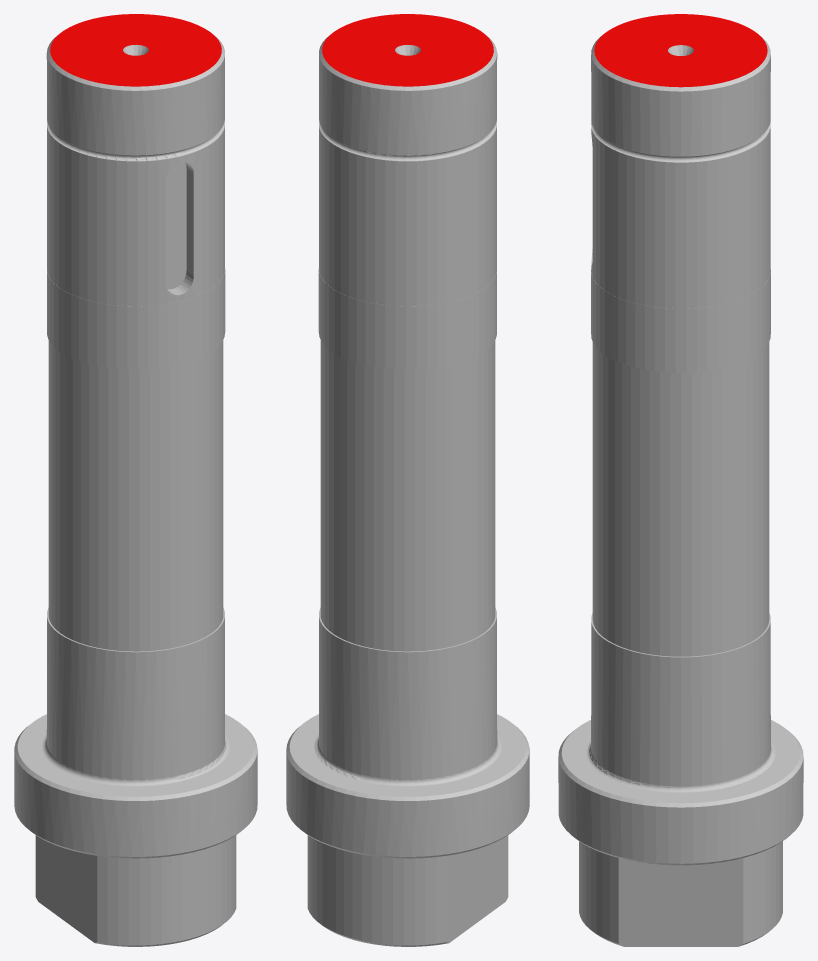
File: 1_stp_2.obj
The picture shows the model from 3 angles, left to right: view 1: azimuth 30°, elevation 25°; view 2: azimuth 150°, elevation 25°; view 3: azimuth 270°, elevation 25°; orthographic projection.
Parts seen in each view (by area): view 1: Object1; view 2: Object1; view 3: Object1.
Part boxes in pixels (x1=…): Object1: x1=14, y1=14, x2=257, y2=946; Object1: x1=286, y1=14, x2=529, y2=946; Object1: x1=558, y1=14, x2=803, y2=946.
Size of the model in its own units: 75 by 291 by 74.98.
